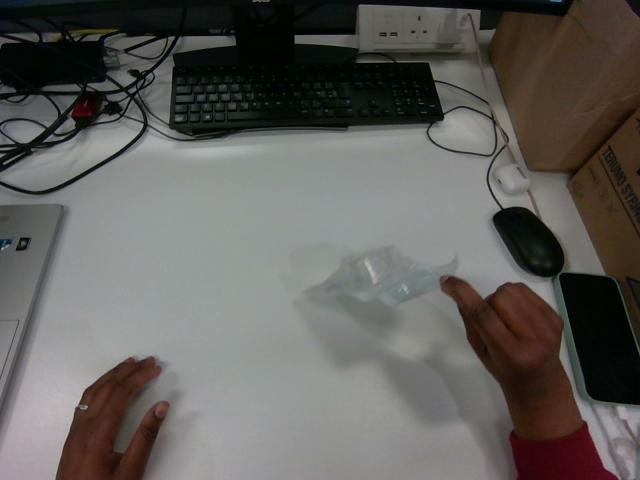gallipot: (305, 246, 457, 305)
